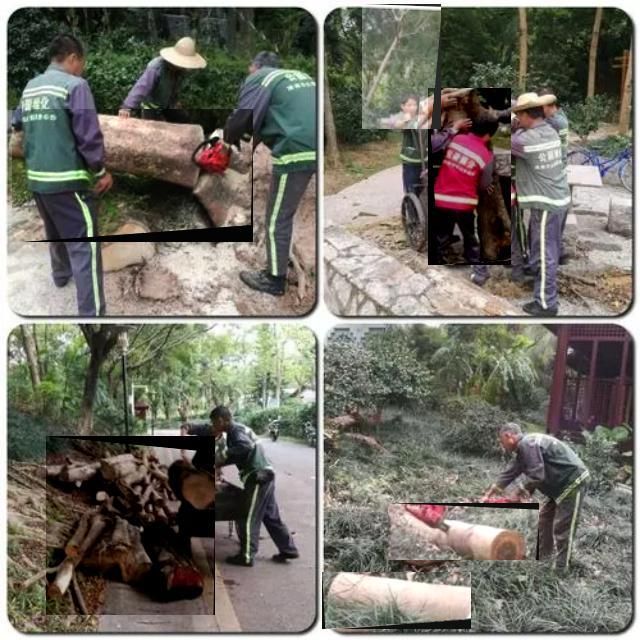fallen_tree: (12, 109, 254, 243), (46, 436, 216, 616), (428, 88, 512, 266), (362, 4, 442, 130), (388, 503, 540, 561), (322, 572, 472, 630)
